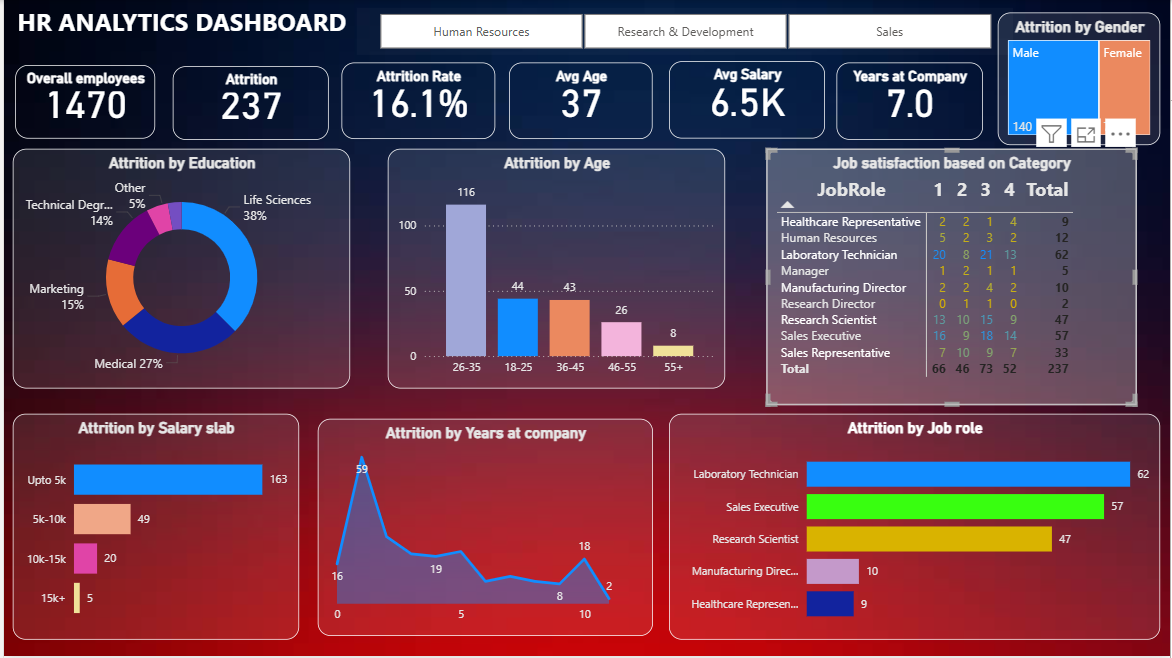

This screenshot's page, from the dashboard's own definition file:
{"tool":"powerbi","page":{"name":"Page 1","canvas":[1280,720],"ordinal":0},"visuals":[{"type":"card","title":"Overall employees ","fields":{"Values":["CountNonNull(HR_Analytics.EmpID)"]},"box":[12.3,71.4,153.7,81],"z":0},{"type":"card","title":"Attrition","fields":{"Values":["Sum(HR_Analytics.Attritioncount)"]},"box":[185.2,72.7,171.5,81],"z":1000},{"type":"card","title":"Attrition Rate","fields":{"Values":["HR_Analytics.AttritionRate"]},"box":[370.5,68.6,168.8,83.7],"z":2000},{"type":"card","title":"Avg Salary ","fields":{"Values":["Avg(HR_Analytics.MonthlyIncome)"]},"box":[730,67.2,171.5,85.1],"z":3000},{"type":"card","title":"Avg Age ","fields":{"Values":["Avg(HR_Analytics.Age)"]},"box":[554.4,68.6,157.8,83.7],"z":4000},{"type":"card","title":"Years at Company  ","fields":{"Values":["Avg(HR_Analytics.YearsAtCompany)"]},"box":[913.9,68.6,160.5,85.1],"z":5000},{"type":"donutChart","title":"Attrition by Education","fields":{"Category":["HR_Analytics.EducationField"],"Y":["Sum(HR_Analytics.Attritioncount)"]},"box":[9.6,163.3,370.5,263.5],"z":6000},{"type":"columnChart","title":"Attrition by Age","fields":{"Y":["Sum(HR_Analytics.Attritioncount)"],"Category":["HR_Analytics.AgeGroup"]},"box":[421.3,163.3,370.5,263.5],"z":7000},{"type":"pivotTable","title":"Job satisfaction based on Category","fields":{"Rows":["HR_Analytics.JobRole"],"Values":["Sum(HR_Analytics.Attritioncount)"],"Columns":["HR_Analytics.JobSatisfaction"]},"box":[837.1,163.3,406.2,281.3],"z":8000},{"type":"clusteredBarChart","title":"Attrition by Salary slab","fields":{"Category":["HR_Analytics.SalarySlab"],"Y":["Sum(HR_Analytics.Attritioncount)"]},"box":[9.6,454.2,314.2,248.4],"z":9000},{"type":"clusteredBarChart","title":"Attrition by Job role","fields":{"Y":["Sum(HR_Analytics.Attritioncount)"],"Category":["HR_Analytics.JobRole"]},"box":[730,454.2,539.3,248.4],"z":10000},{"type":"areaChart","title":"Attrition by Years at company","fields":{"Category":["HR_Analytics.YearsAtCompany"],"Y":["Sum(HR_Analytics.Attritioncount)"]},"box":[344.4,459.7,367.8,238.8],"z":11000},{"type":"treemap","title":"Attrition by Gender","fields":{"Group":["HR_Analytics.Gender"],"Values":["Sum(HR_Analytics.Attritioncount)"]},"box":[1090.9,13.7,178.4,145.5],"z":12000},{"type":"slicer","fields":{"Values":["HR_Analytics.Department"]},"box":[387,8.2,720.4,52.1],"z":13000},{"type":"textbox","box":[9.6,0,396.6,60.4],"z":14000}]}

Visuals, with their boxes in screenshot pixels (x1, y1, x2, y2), scaled from the page's 1280x720 canvas onto the 1172x658 screenshot:
"Overall employees " card: <region>11, 65, 152, 139</region>
"Attrition" card: <region>170, 66, 327, 140</region>
"Attrition Rate" card: <region>339, 63, 494, 139</region>
"Avg Salary " card: <region>668, 61, 825, 139</region>
"Avg Age " card: <region>508, 63, 652, 139</region>
"Years at Company  " card: <region>837, 63, 984, 140</region>
"Attrition by Education" donutChart: <region>9, 149, 348, 390</region>
"Attrition by Age" columnChart: <region>386, 149, 725, 390</region>
"Job satisfaction based on Category" pivotTable: <region>766, 149, 1138, 406</region>
"Attrition by Salary slab" clusteredBarChart: <region>9, 415, 296, 642</region>
"Attrition by Job role" clusteredBarChart: <region>668, 415, 1162, 642</region>
"Attrition by Years at company" areaChart: <region>315, 420, 652, 638</region>
"Attrition by Gender" treemap: <region>999, 13, 1162, 145</region>
slicer - HR_Analytics.Department: <region>354, 7, 1014, 55</region>
textbox: <region>9, 0, 372, 55</region>
